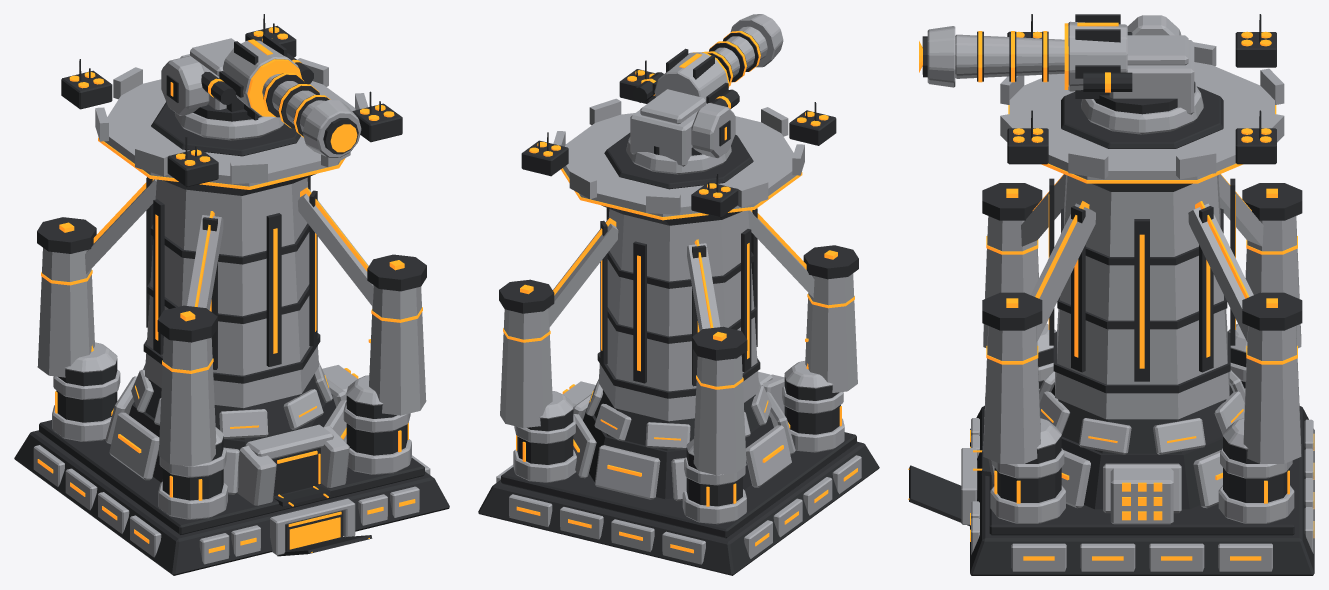
Rendered from sb_bunker_t3.glb.
3 renders of one model, left to right at view 1: azimuth 30°, elevation 25°; view 2: azimuth 150°, elevation 25°; view 3: azimuth 270°, elevation 25°, orthographic. The views are drawn at different scales.
Visible parts, largest first — view 1: SM_BK3_SHAFT, SM_BK3_DARK, SM_BK2V_SUB_BASE, SM_BK2V_TOWERS, SM_BK2V_PLINTH, SM_BK2V_SUB_PLATES, SM_BK2V_TOWERS_CORE, SM_BK2V_DOOR_BUTTRESS, SM_BK3_GLOW, SM_BK2V_PODS, SM_BK2V_LASER, SM_BK2V_PLATES_LOW (+16 smaller); view 2: SM_BK3_SHAFT, SM_BK3_DARK, SM_BK2V_SUB_BASE, SM_BK2V_TOWERS, SM_BK2V_PLINTH, SM_BK2V_SUB_PLATES, SM_BK2V_PLATES_LOW, SM_BK2V_TURRET_BODY, SM_BK2V_TOWERS_CORE, SM_BK2V_LASER, SM_BK2V_PODS, SM_BK3_GLOW (+12 smaller); view 3: SM_BK3_SHAFT, SM_BK3_DARK, SM_BK2V_SUB_BASE, SM_BK2V_SUB_PLATES, SM_BK2V_LASER, SM_BK2V_TOWERS, SM_BK2V_TURRET_BODY, SM_BK2V_PLINTH, SM_BK3_GLOW, SM_BK2V_PLATES_UP, SM_BK2V_TOWERS_CORE, SM_BK2V_PODS (+15 smaller).
Boxes of the visible parts, x1=… form: SM_BK3_SHAFT: x1=37, y1=58, x2=426, y2=466; SM_BK3_DARK: x1=37, y1=174, x2=426, y2=383; SM_BK2V_SUB_BASE: x1=14, y1=430, x2=449, y2=575; SM_BK2V_TOWERS: x1=52, y1=342, x2=411, y2=519; SM_BK2V_PLINTH: x1=39, y1=420, x2=424, y2=534; SM_BK2V_SUB_PLATES: x1=33, y1=445, x2=430, y2=564; SM_BK2V_TOWERS_CORE: x1=56, y1=358, x2=407, y2=500; SM_BK2V_DOOR_BUTTRESS: x1=237, y1=424, x2=349, y2=505; SM_BK3_GLOW: x1=41, y1=137, x2=422, y2=373; SM_BK2V_PODS: x1=61, y1=25, x2=402, y2=187; SM_BK2V_LASER: x1=223, y1=40, x2=361, y2=157; SM_BK2V_PLATES_LOW: x1=105, y1=376, x2=346, y2=494; SM_BK3_SHAFT: x1=500, y1=98, x2=857, y2=475; SM_BK3_DARK: x1=499, y1=205, x2=858, y2=398; SM_BK2V_SUB_BASE: x1=478, y1=441, x2=879, y2=575; SM_BK2V_TOWERS: x1=513, y1=361, x2=844, y2=524; SM_BK2V_PLINTH: x1=501, y1=432, x2=856, y2=538; SM_BK2V_SUB_PLATES: x1=496, y1=455, x2=861, y2=564; SM_BK2V_PLATES_LOW: x1=573, y1=392, x2=795, y2=501; SM_BK2V_TURRET_BODY: x1=626, y1=89, x2=731, y2=174; SM_BK2V_TOWERS_CORE: x1=517, y1=375, x2=840, y2=506; SM_BK2V_LASER: x1=654, y1=14, x2=783, y2=101; SM_BK2V_PODS: x1=521, y1=69, x2=836, y2=217; SM_BK3_GLOW: x1=503, y1=168, x2=854, y2=389; SM_BK3_SHAFT: x1=983, y1=42, x2=1301, y2=463; SM_BK3_DARK: x1=982, y1=178, x2=1302, y2=393; SM_BK2V_SUB_BASE: x1=970, y1=405, x2=1314, y2=575; SM_BK2V_SUB_PLATES: x1=971, y1=418, x2=1313, y2=571; SM_BK2V_LASER: x1=927, y1=21, x2=1127, y2=91; SM_BK2V_TOWERS: x1=990, y1=323, x2=1294, y2=523; SM_BK2V_TURRET_BODY: x1=1081, y1=35, x2=1203, y2=134; SM_BK2V_PLINTH: x1=989, y1=459, x2=1294, y2=535; SM_BK3_GLOW: x1=986, y1=105, x2=1297, y2=368; SM_BK2V_PLATES_UP: x1=1039, y1=370, x2=1245, y2=454; SM_BK2V_TOWERS_CORE: x1=994, y1=348, x2=1289, y2=502; SM_BK2V_PODS: x1=1007, y1=32, x2=1276, y2=164.
Size of the model in its own units: 35.02 by 55.37 by 41.27.
